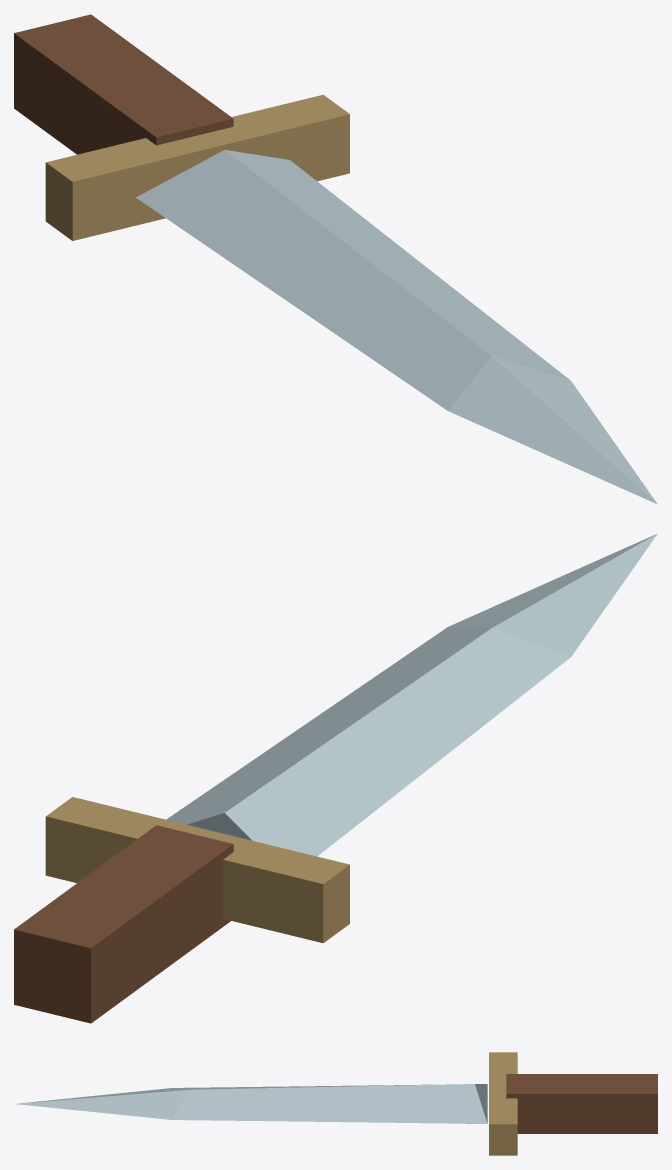
Rendered from goblin_dagger.glb.
3 views of the same model, one above another, from view 1: azimuth 30°, elevation 25°; view 2: azimuth 150°, elevation 25°; view 3: azimuth 270°, elevation 25° (orthographic). The views are drawn at different scales.
Visible parts, largest first — view 1: Goblin-forged dagger, Leather grip, Short crossguard; view 2: Goblin-forged dagger, Leather grip, Short crossguard; view 3: Goblin-forged dagger, Leather grip, Short crossguard.
Boxes of the visible parts, x1,y1,x2,y2 form: Goblin-forged dagger: (136,150,657,504); Leather grip: (14,14,233,154); Short crossguard: (45,94,349,240); Goblin-forged dagger: (166,533,657,856); Leather grip: (14,825,233,1023); Short crossguard: (45,797,349,943); Goblin-forged dagger: (16,1084,487,1123); Leather grip: (506,1074,657,1133); Short crossguard: (489,1052,517,1155).
Size of the model in its own units: 0.27 by 0.07 by 1.02.
